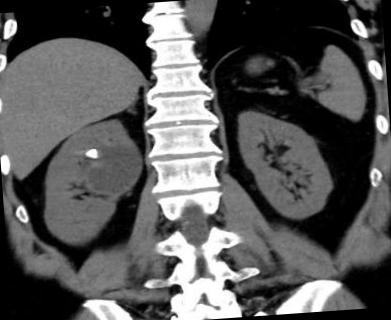Tas_Var: (81, 146, 100, 162)
